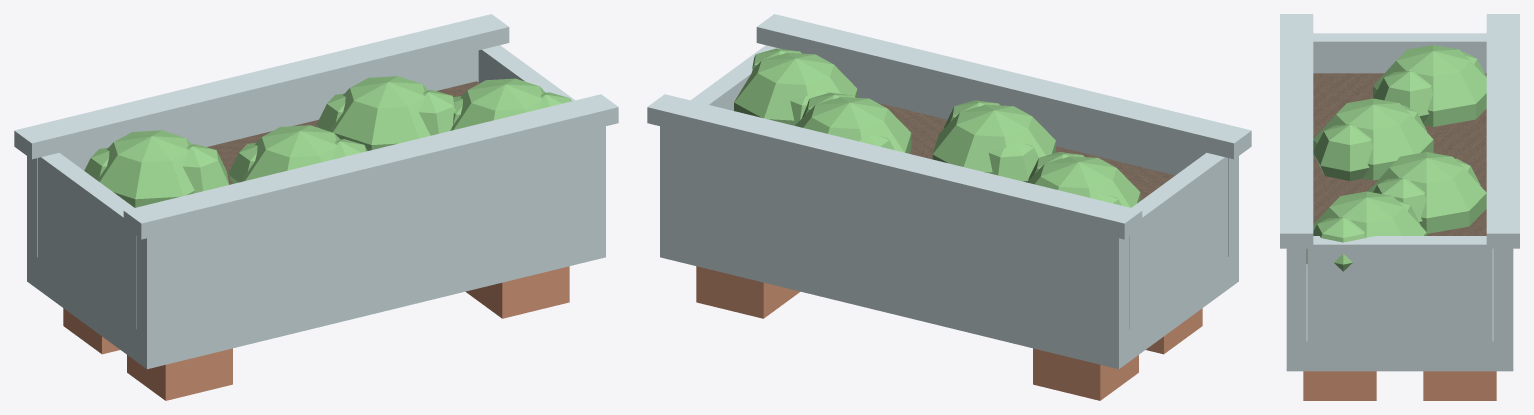
The model's file is allotments-and-community-garden-old-bath-trough-b1909510__35178.glb.
The picture shows the model from 3 angles, left to right: view 1: azimuth 30°, elevation 25°; view 2: azimuth 150°, elevation 25°; view 3: azimuth 270°, elevation 25°; orthographic projection. The views are drawn at different scales.
Parts seen in each view (by area): view 1: old-bath-trough-glass, old-bath-trough-leaf, old-bath-trough-terracotta, old-bath-trough-soil; view 2: old-bath-trough-glass, old-bath-trough-leaf, old-bath-trough-terracotta, old-bath-trough-soil; view 3: old-bath-trough-glass, old-bath-trough-leaf, old-bath-trough-soil, old-bath-trough-terracotta.
Part boxes in pixels (x1,y1,x2,y2): old-bath-trough-glass: (14, 14, 618, 369); old-bath-trough-leaf: (84, 76, 571, 207); old-bath-trough-terracotta: (63, 266, 569, 400); old-bath-trough-soil: (207, 81, 479, 184); old-bath-trough-glass: (647, 14, 1251, 369); old-bath-trough-leaf: (734, 48, 1140, 207); old-bath-trough-terracotta: (696, 266, 1202, 400); old-bath-trough-soil: (877, 102, 1175, 200); old-bath-trough-glass: (1280, 14, 1519, 371); old-bath-trough-leaf: (1306, 45, 1486, 271); old-bath-trough-soil: (1313, 73, 1486, 235); old-bath-trough-terracotta: (1303, 371, 1496, 400).
Bounding box in the file's own units: 1.56 × 0.6273 × 0.7199.
Materials: 5 (1 with a texture image).
